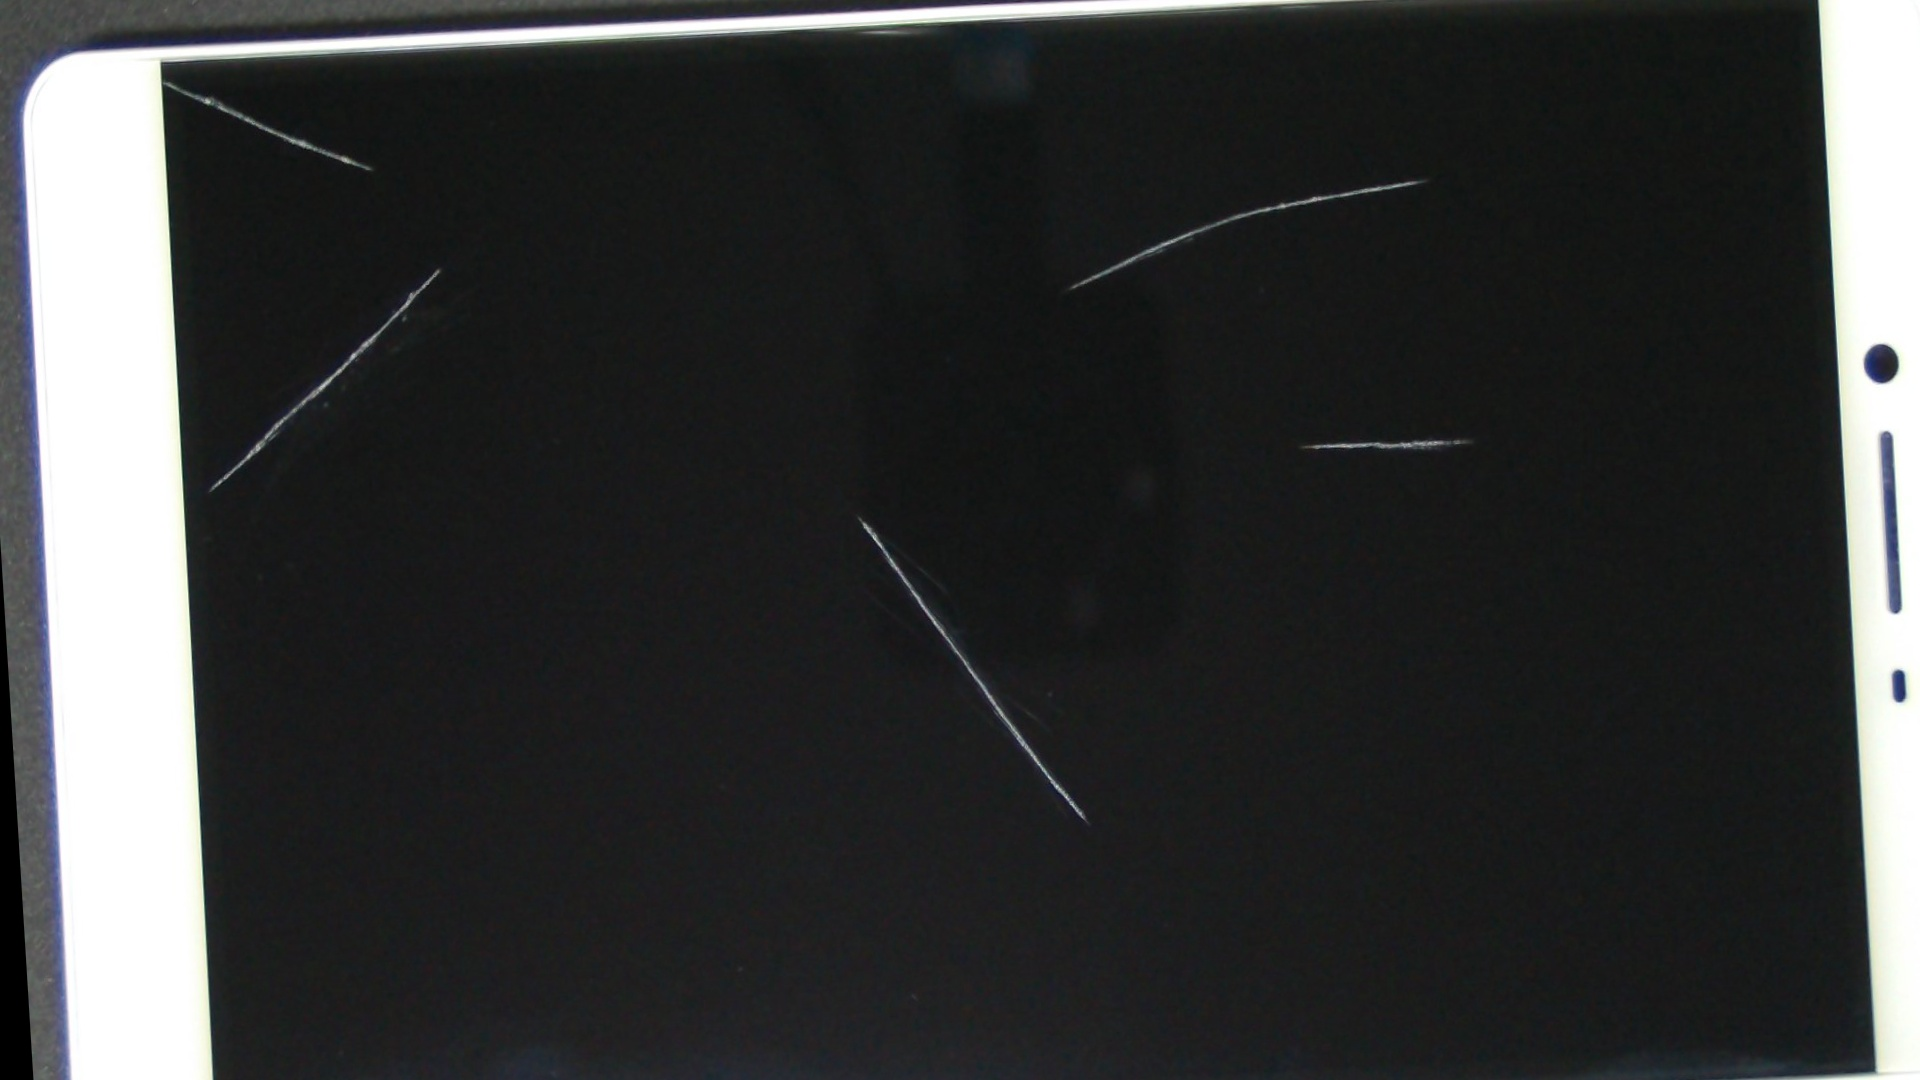oil: (633, 119, 1920, 770), (411, 181, 1304, 848), (687, 0, 1920, 381), (202, 80, 670, 454), (63, 4, 262, 153)
